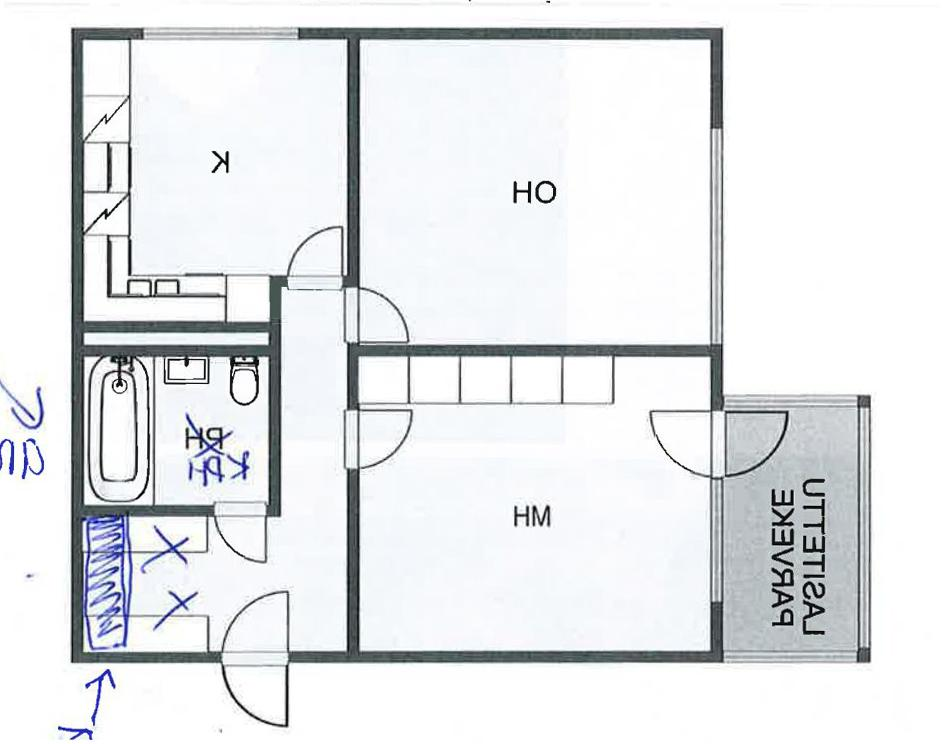bathroom: (83, 356, 268, 508)
door: (216, 649, 296, 732), (216, 586, 295, 666), (708, 406, 792, 479), (643, 407, 725, 480), (338, 406, 416, 475), (340, 284, 415, 350), (281, 222, 348, 293), (210, 497, 274, 568)
perimeter: (72, 27, 724, 665)
window: (703, 117, 729, 352), (132, 22, 306, 46), (714, 390, 865, 411), (706, 473, 728, 614), (858, 391, 869, 661), (712, 648, 870, 665)
